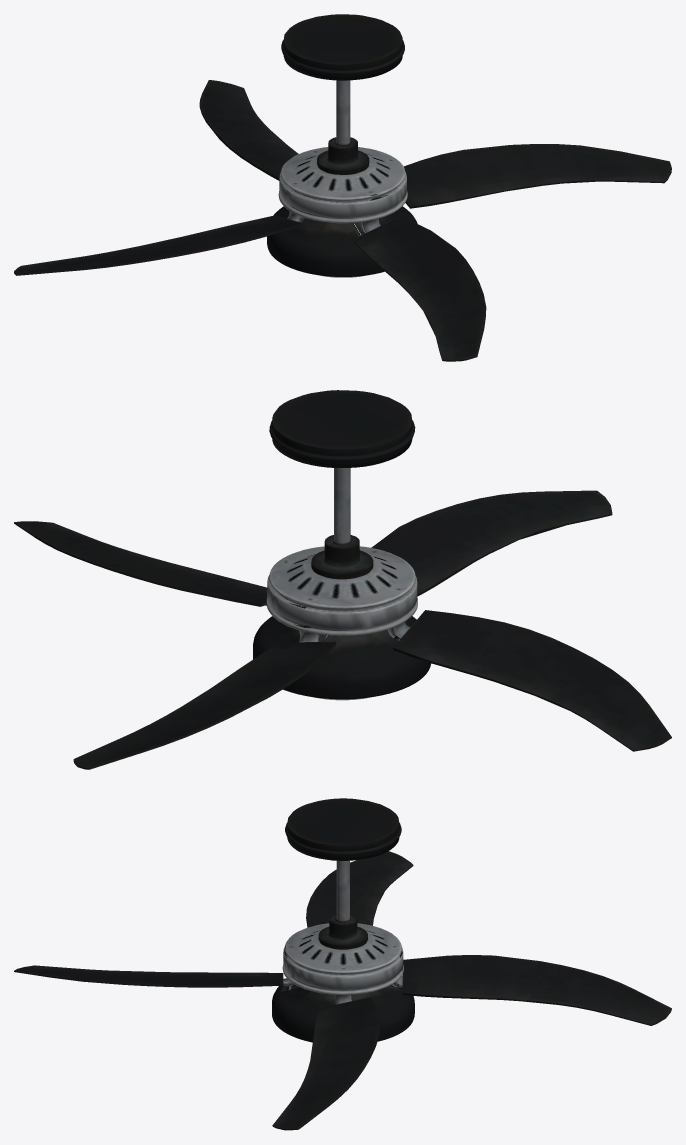
The model's file is ceiling_fan.glb.
The picture shows the model from 3 angles, top to bottom: view 1: azimuth 30°, elevation 25°; view 2: azimuth 150°, elevation 25°; view 3: azimuth 270°, elevation 25°; orthographic projection. The views are drawn at different scales.
Parts seen in each view (by area): view 1: ceiling_fan; view 2: ceiling_fan; view 3: ceiling_fan.
Part boxes in pixels (x1,y1,x2,y2): ceiling_fan: (14,14,671,361); ceiling_fan: (14,390,671,769); ceiling_fan: (14,798,671,1130).
Bounding box in the file's own units: 1.46 × 0.5163 × 1.46.
1 material, 1 textured.
